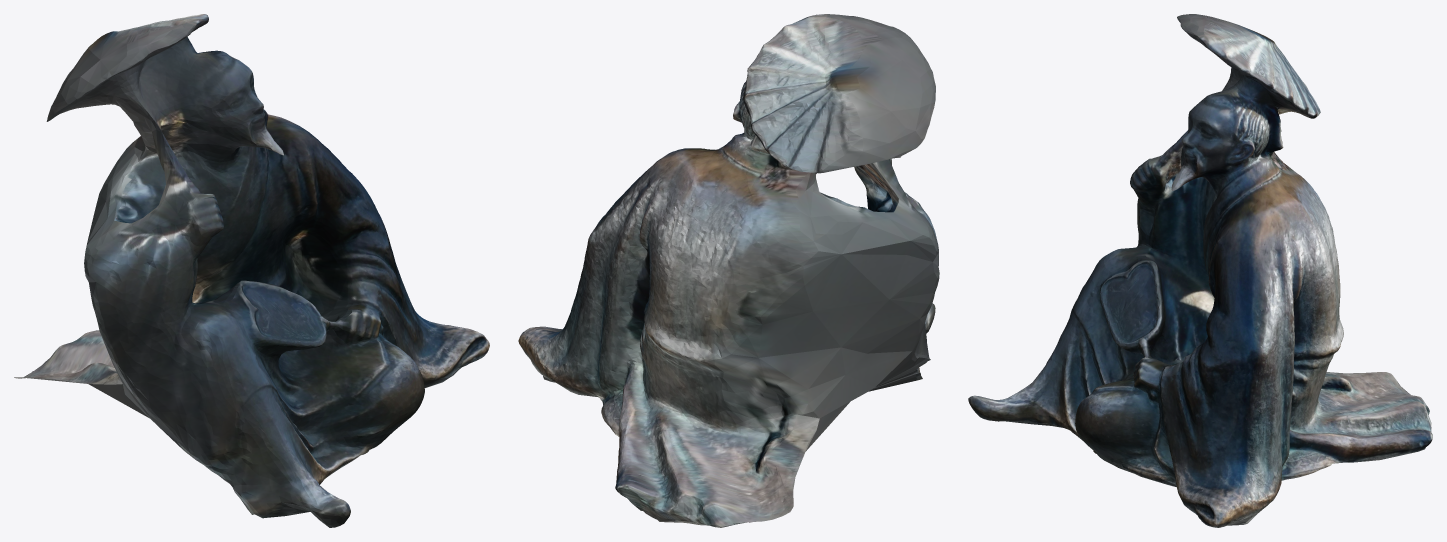
Rendered from statue of a Chinese man on park Alexandria. Bila Tserkva.glb.
The picture shows the model from 3 angles, left to right: view 1: azimuth 30°, elevation 25°; view 2: azimuth 150°, elevation 25°; view 3: azimuth 270°, elevation 25°; orthographic projection. The views are drawn at different scales.
Bounding box in the file's own units: 0.5423 × 0.5333 × 0.5727.
Materials: 1 (1 with a texture image).
